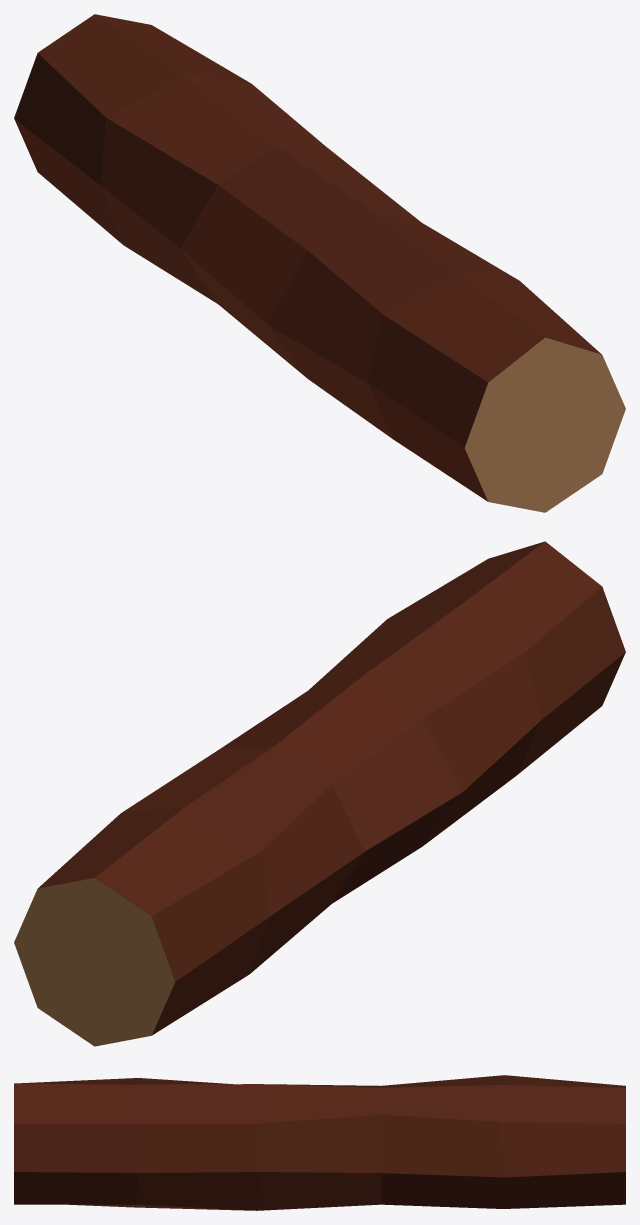
Rendered from Wood 1.fbx.
The picture shows the model from 3 angles, top to bottom: view 1: azimuth 30°, elevation 25°; view 2: azimuth 150°, elevation 25°; view 3: azimuth 270°, elevation 25°; orthographic projection. The views are drawn at different scales.
Visible parts, largest first — view 1: Cilindro.001; view 2: Cilindro.001; view 3: Cilindro.001.
Boxes of the visible parts, x1,y1,x2,y2 form: Cilindro.001: [14, 14, 625, 512]; Cilindro.001: [14, 541, 625, 1046]; Cilindro.001: [14, 1075, 625, 1210].
Size of the model in its own units: 60.25 by 54.13 by 242.
